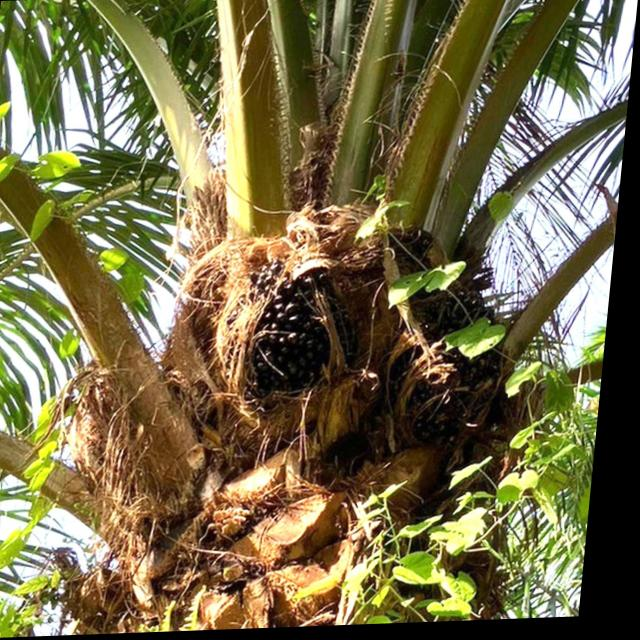unripe: (230, 248, 362, 406)
